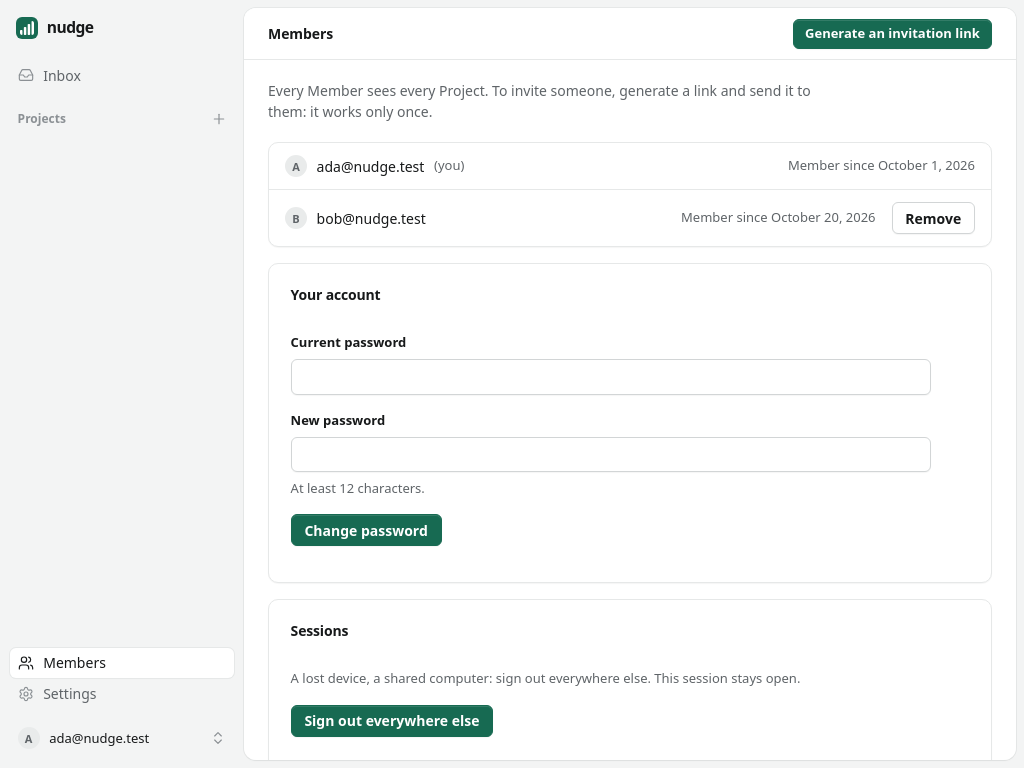
Test: Members: own account › changes the password with the current one, then empties the fields
Step 1. Type "the old password" into the password field labelled "Current password" → (611, 377), box left=291, top=359, right=931, bottom=395
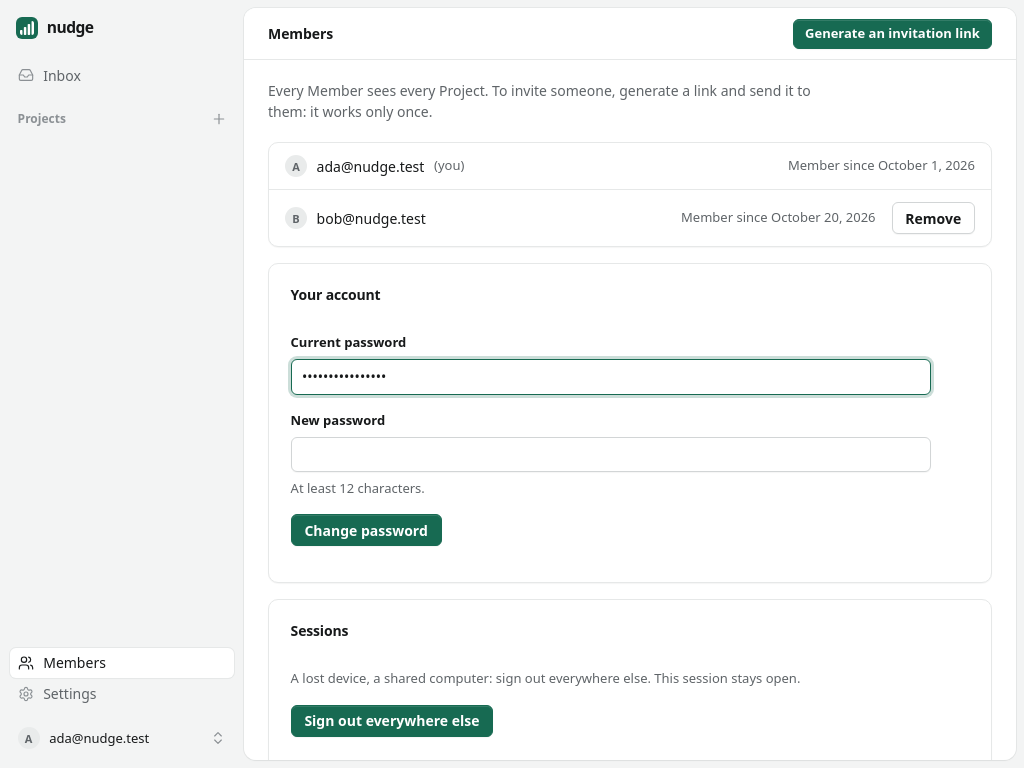
Step 2. Type "a brand new password" into the password field labelled "New password" → (611, 454), box left=291, top=437, right=931, bottom=472
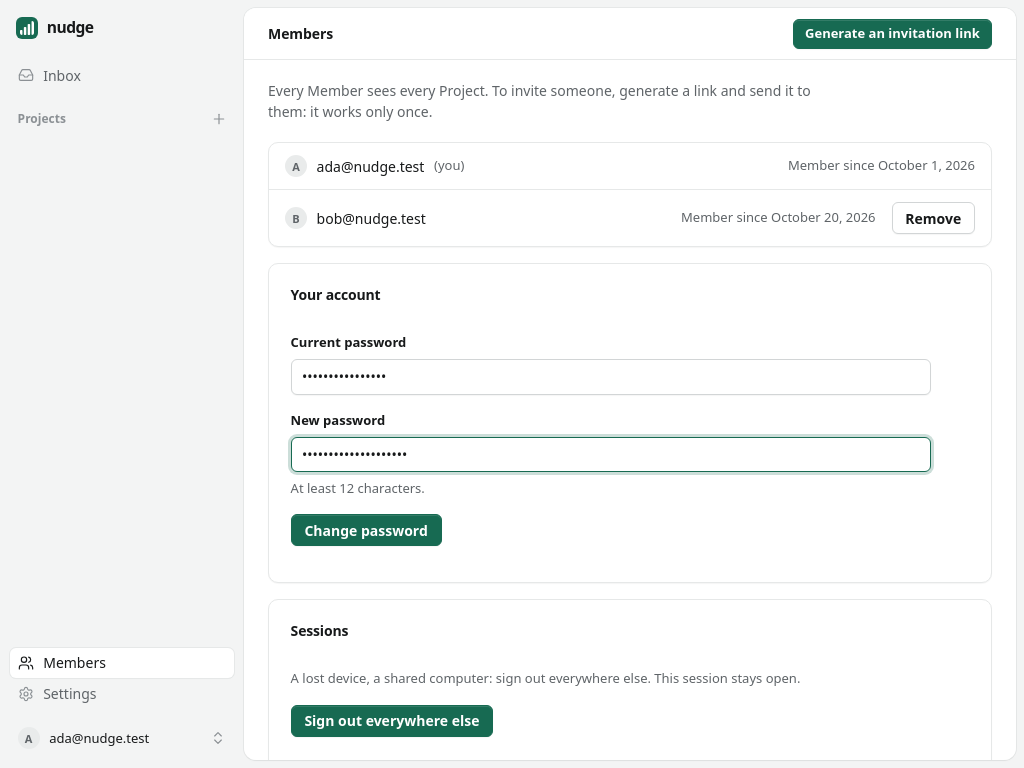
Step 3. Click the button "Change password" → (366, 530), box left=291, top=514, right=442, bottom=546
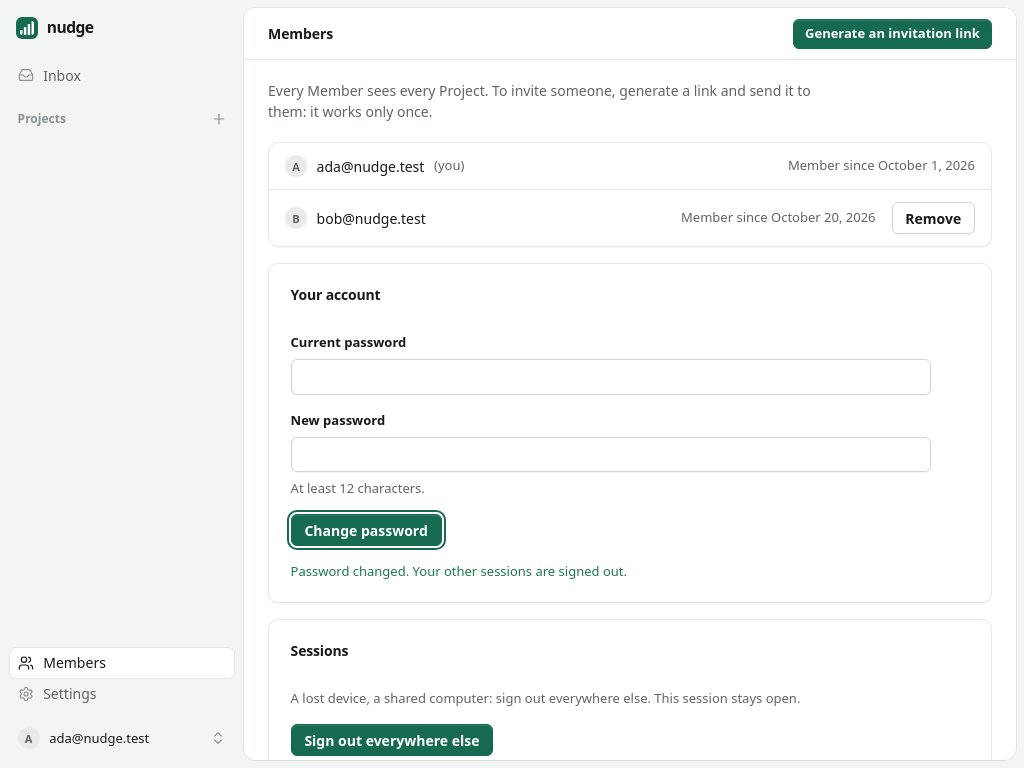
Expected: the text "Password changed. Your other sessions are signed out." is shown, left=291, top=562, right=627, bottom=580
Expected: the password field labelled "Current password" is empty, left=291, top=359, right=931, bottom=395
